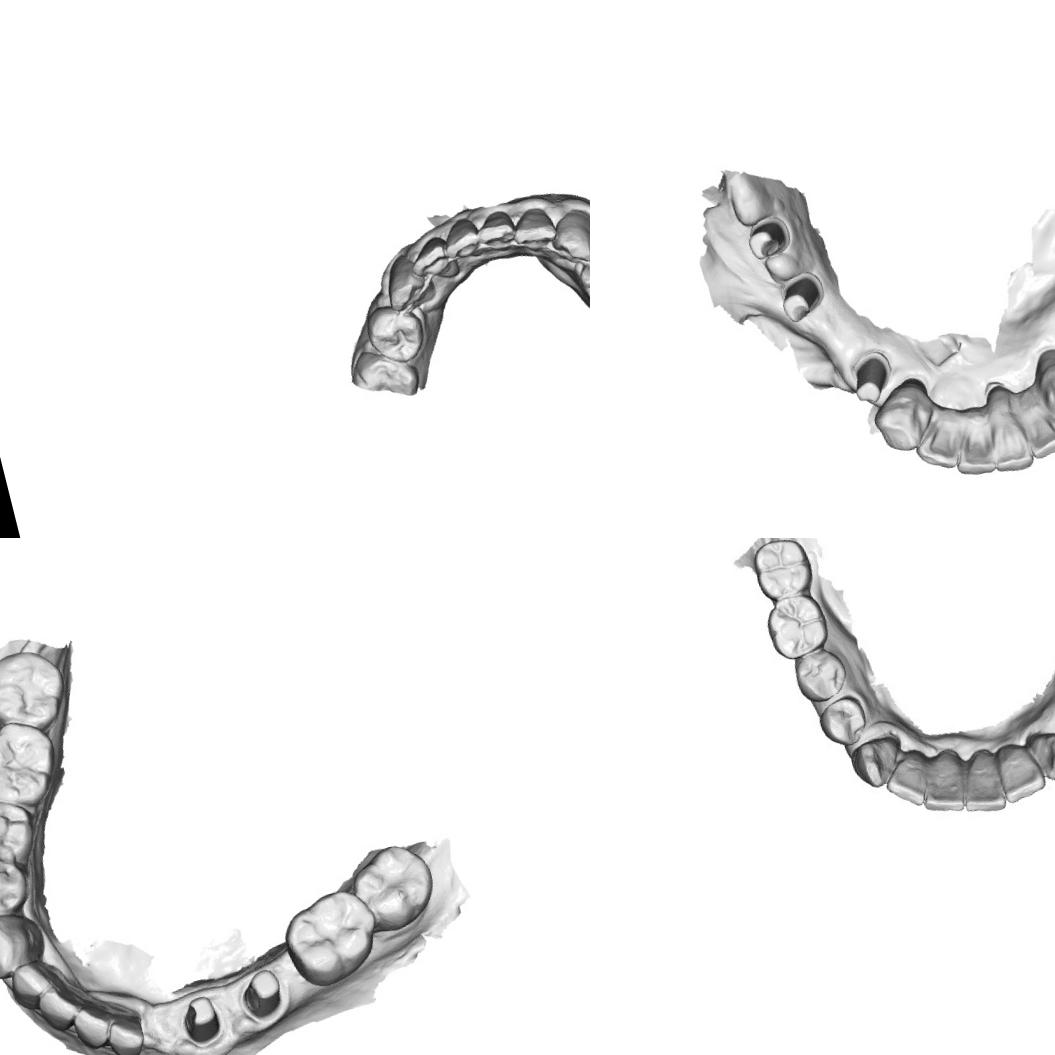abutment: (772, 268, 830, 328), (844, 349, 895, 409), (174, 989, 226, 1047), (237, 966, 288, 1023), (742, 215, 793, 265)
canine: (866, 378, 938, 459), (0, 904, 51, 985), (378, 247, 438, 314), (846, 732, 906, 792), (545, 202, 590, 269), (1023, 722, 1055, 785), (1040, 359, 1055, 436)
incisor: (976, 396, 1037, 478), (907, 410, 972, 478), (944, 409, 1002, 482), (912, 748, 972, 818), (952, 746, 1008, 819), (4, 952, 68, 1012), (992, 736, 1048, 804), (878, 748, 935, 812), (29, 978, 84, 1036), (1011, 393, 1055, 462), (506, 200, 557, 256), (408, 233, 460, 287), (65, 1000, 114, 1053), (437, 211, 483, 265), (97, 1011, 150, 1055), (475, 206, 520, 256)
molar: (274, 880, 386, 994), (342, 833, 444, 939), (0, 640, 77, 743), (0, 711, 69, 819), (759, 588, 833, 664), (747, 538, 817, 603)
premolar: (356, 298, 432, 371), (790, 645, 851, 706), (0, 793, 40, 876), (814, 693, 871, 750), (0, 843, 35, 923), (569, 238, 590, 315)
